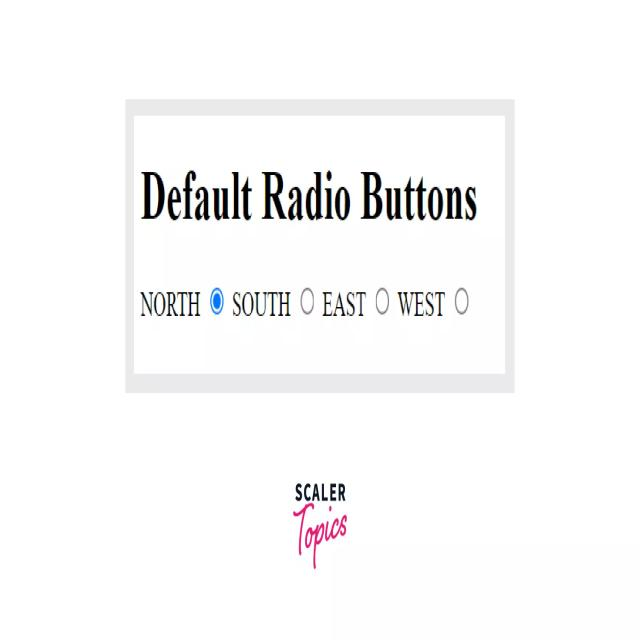radio: (235, 284, 315, 320), (139, 289, 225, 319), (400, 290, 470, 316), (324, 292, 392, 318)
text: (143, 171, 478, 231), (294, 485, 346, 548)
